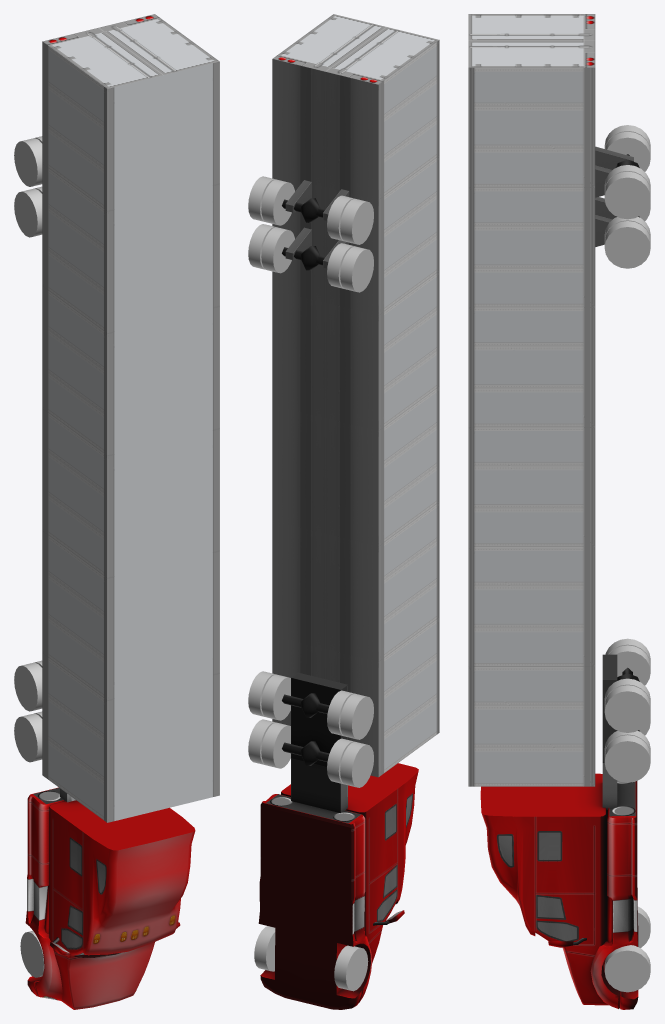
File: semi.obj
3 views of the same model, side by side, from view 1: azimuth 30°, elevation 25°; view 2: azimuth 150°, elevation 25°; view 3: azimuth 270°, elevation 25° (orthographic). The views are drawn at different scales.
Visible parts, largest first — view 1: semi_trailer, semi_truck, semi_truck_wheel_rear_01, semi_truck_wheel_rear_02, semi_trailer_wheel_rear_01, semi_trailer_wheel_rear_02, semi_truck_wheel_front_right; view 2: semi_trailer, semi_truck, semi_trailer_wheel_rear_02, semi_trailer_wheel_rear_01, semi_truck_wheel_rear_01, semi_truck_wheel_rear_02, semi_truck_wheel_front_right, semi_truck_wheel_front_left; view 3: semi_trailer, semi_truck, semi_trailer_wheel_rear_02, semi_truck_wheel_rear_02, semi_truck_wheel_rear_01, semi_trailer_wheel_rear_01, semi_truck_wheel_front_left.
Boxes of the visible parts, x1,y1,x2,y2 form: semi_trailer: [42, 14, 219, 822]; semi_truck: [25, 787, 195, 1009]; semi_truck_wheel_rear_01: [14, 711, 42, 762]; semi_truck_wheel_rear_02: [14, 660, 42, 711]; semi_trailer_wheel_rear_01: [14, 186, 42, 237]; semi_trailer_wheel_rear_02: [14, 136, 42, 186]; semi_truck_wheel_front_right: [20, 930, 44, 977]; semi_trailer: [272, 14, 439, 777]; semi_truck: [258, 672, 418, 1009]; semi_trailer_wheel_rear_02: [248, 176, 373, 244]; semi_trailer_wheel_rear_01: [248, 224, 373, 292]; semi_truck_wheel_rear_01: [248, 719, 373, 787]; semi_truck_wheel_rear_02: [248, 671, 373, 739]; semi_truck_wheel_front_right: [334, 945, 368, 991]; semi_truck_wheel_front_left: [254, 926, 275, 971]; semi_trailer: [468, 14, 639, 786]; semi_truck: [480, 654, 639, 1009]; semi_trailer_wheel_rear_02: [604, 125, 650, 219]; semi_truck_wheel_rear_02: [604, 638, 650, 732]; semi_truck_wheel_rear_01: [604, 714, 650, 782]; semi_trailer_wheel_rear_01: [604, 200, 650, 268]; semi_truck_wheel_front_left: [604, 945, 650, 992].
Bounding box in the file's own units: 273 × 2144 × 372.
